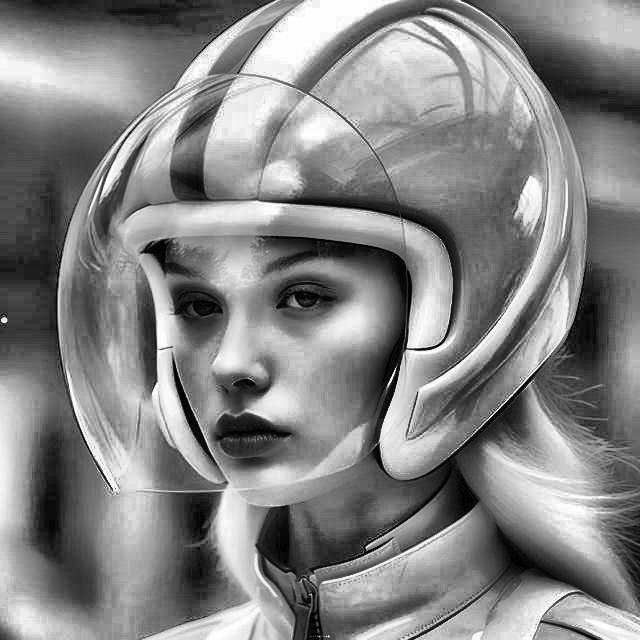Helmet: (48, 0, 600, 517)
